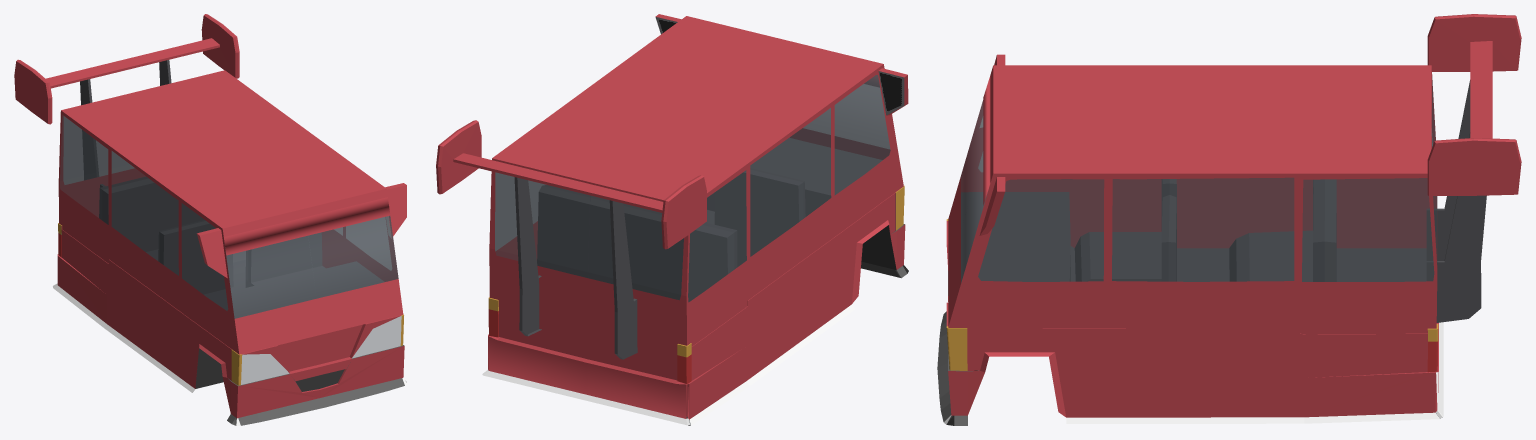
File: daihatsu_dumbo_r.glb
3 views of the same model, side by side, from view 1: azimuth 30°, elevation 25°; view 2: azimuth 150°, elevation 25°; view 3: azimuth 270°, elevation 25° (orthographic). The views are drawn at different scales.
Parts seen in each view (by area): view 1: dumbo; view 2: dumbo; view 3: dumbo.
Boxes of the visible parts, bbox=[...] form: dumbo: bbox=[14, 14, 407, 425]; dumbo: bbox=[436, 14, 908, 425]; dumbo: bbox=[937, 14, 1521, 425].
Size of the model in its own units: 1.9 by 1.89 by 3.42.
9 materials, 1 textured.
